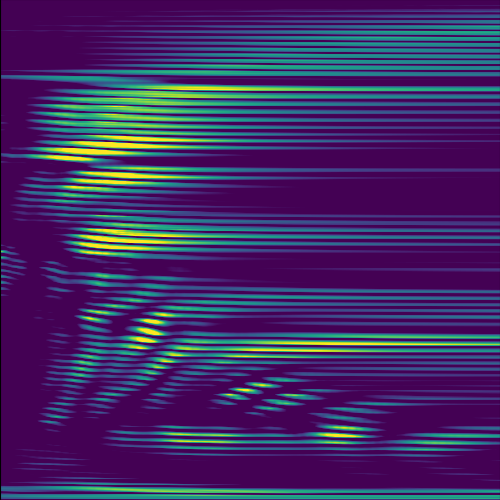semblance: (79, 296, 203, 375), (33, 124, 214, 166), (55, 160, 197, 201), (65, 218, 199, 261), (216, 379, 310, 412), (318, 419, 372, 441)
